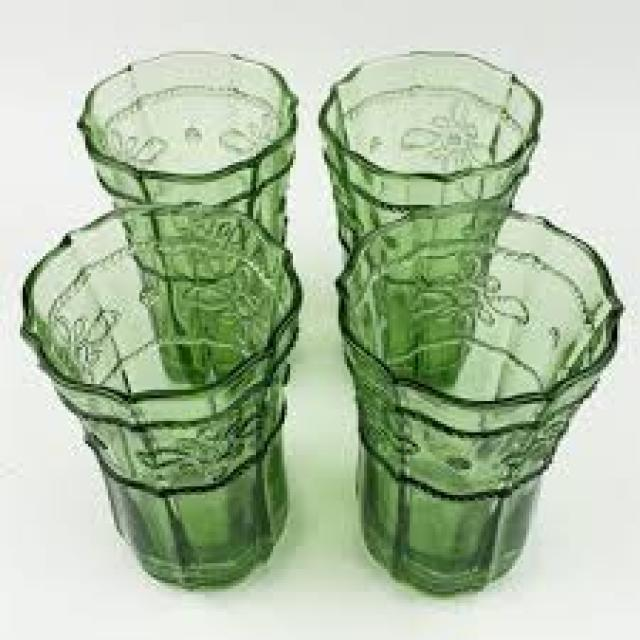glass: (330, 197, 623, 598), (17, 199, 299, 583), (316, 48, 538, 384), (74, 48, 296, 384)
